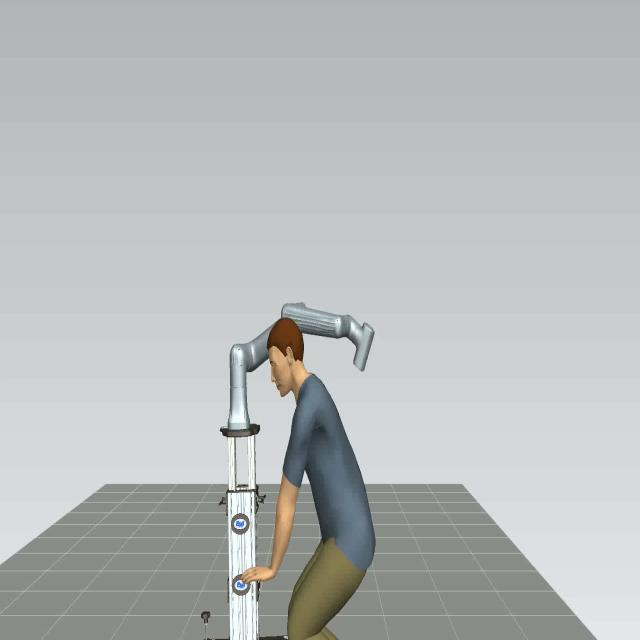human: (240, 316, 376, 639)
robot: (221, 292, 378, 447)
